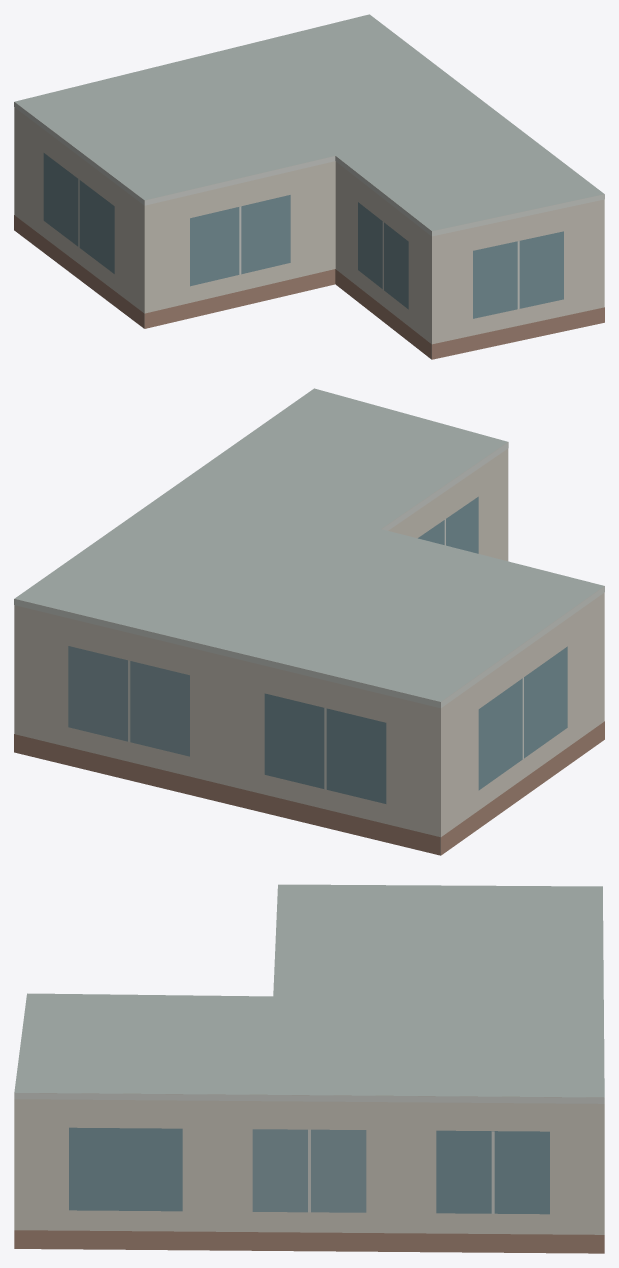
The model's file is survey-upis-32951371.glb.
The picture shows the model from 3 angles, top to bottom: view 1: azimuth 30°, elevation 25°; view 2: azimuth 150°, elevation 25°; view 3: azimuth 270°, elevation 25°; orthographic projection. The views are drawn at different scales.
Parts seen in each view (by area): view 1: survey-upis-32951371.tmp; view 2: survey-upis-32951371.tmp; view 3: survey-upis-32951371.tmp.
Boxes of the visible parts, left/top/right/bottom form: survey-upis-32951371.tmp: left=14, top=14, right=604, bottom=359; survey-upis-32951371.tmp: left=14, top=388, right=604, bottom=855; survey-upis-32951371.tmp: left=14, top=884, right=604, bottom=1253.
Size of the model in its own units: 8.94 by 3.05 by 10.47.
